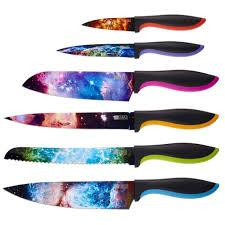Knife: (2, 177, 219, 209), (21, 69, 219, 100), (3, 142, 219, 167), (3, 108, 218, 131), (56, 40, 204, 58), (81, 13, 206, 32)
